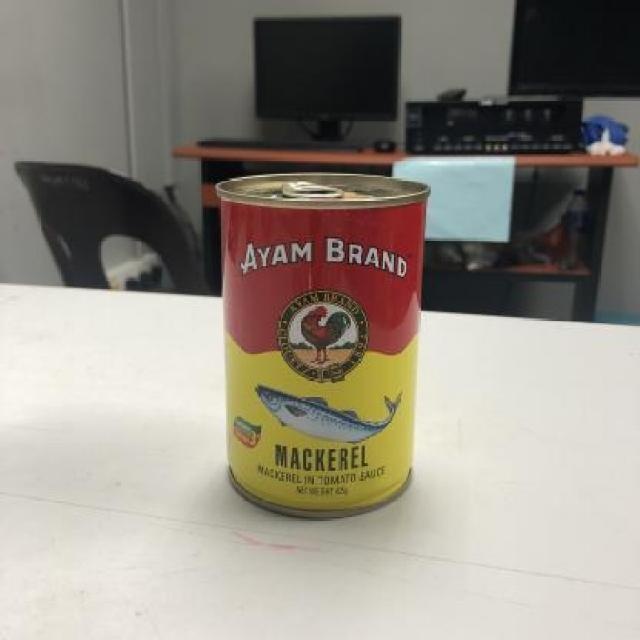metal-can: (217, 172, 426, 520)
